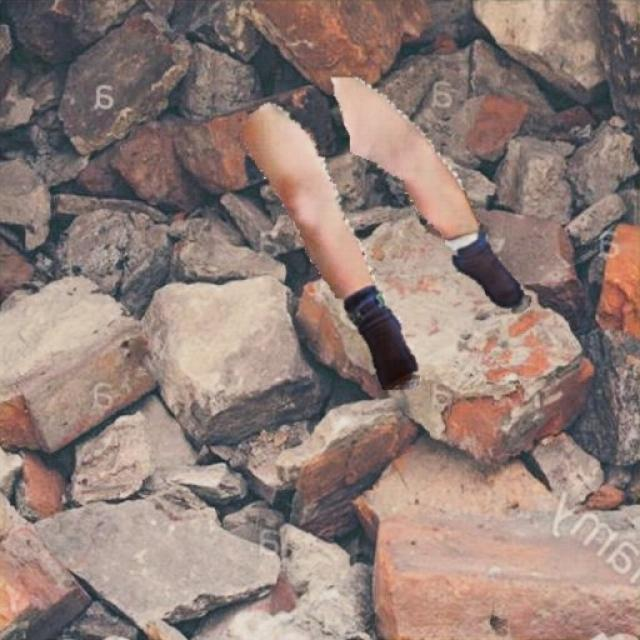Person in Rubble: (240, 78, 530, 388)
